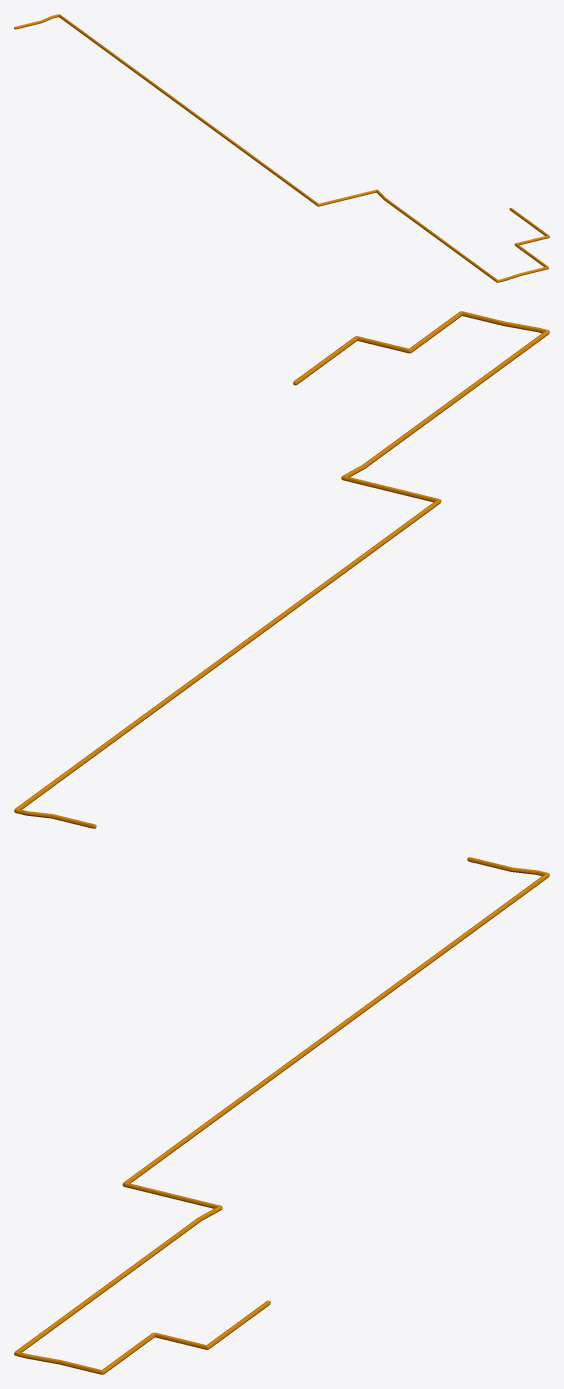
3 renders of one model, top to bottom at view 1: azimuth 30°, elevation 25°; view 2: azimuth 150°, elevation 25°; view 3: azimuth 330°, elevation 25°, orthographic. The views are drawn at different scales.
Size of the model in its own units: 1450 by 20 by 5105.
